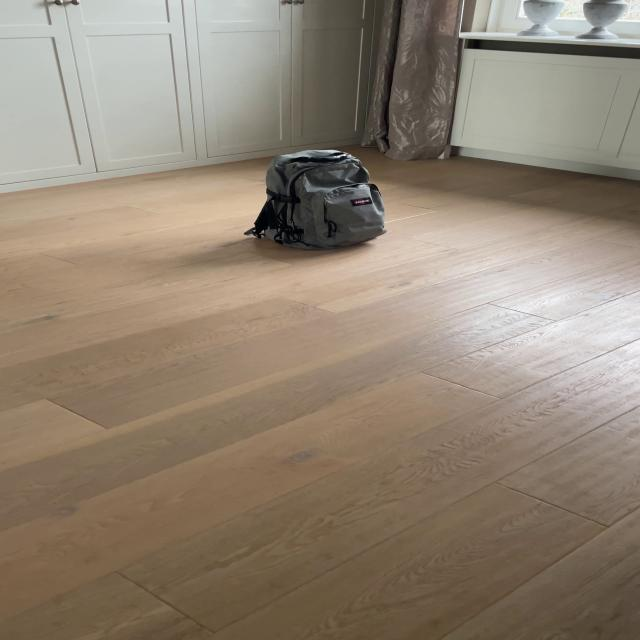backpack: (245, 145, 393, 254)
